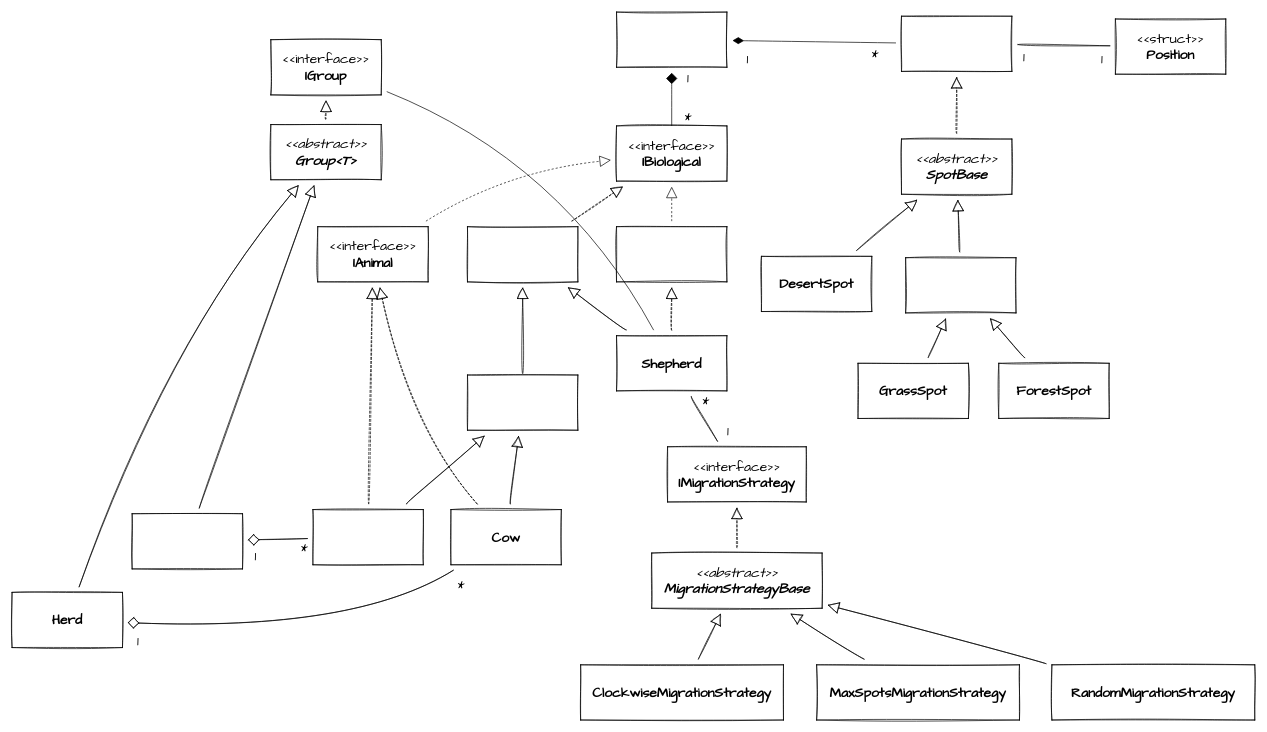
The diagram is 1267 pixels wide and 732 high, and some of its shapes have lost their labels. The shapes that lost their labels are listed below. From the top down, each one's box as (x1, y1, x2, y2) in pixels, then its label:
(616, 11, 727, 67): Terrain
(901, 16, 1012, 71): <<interface>> ISpot
(467, 226, 578, 282): <<abstract>> BiologicalBase
(616, 226, 727, 282): <<interface>> IShepherd
(905, 257, 1016, 313): FertileSpot
(467, 374, 578, 430): <<abstract>> AnimalBase
(131, 513, 243, 569): Drove
(312, 509, 423, 565): Goat
